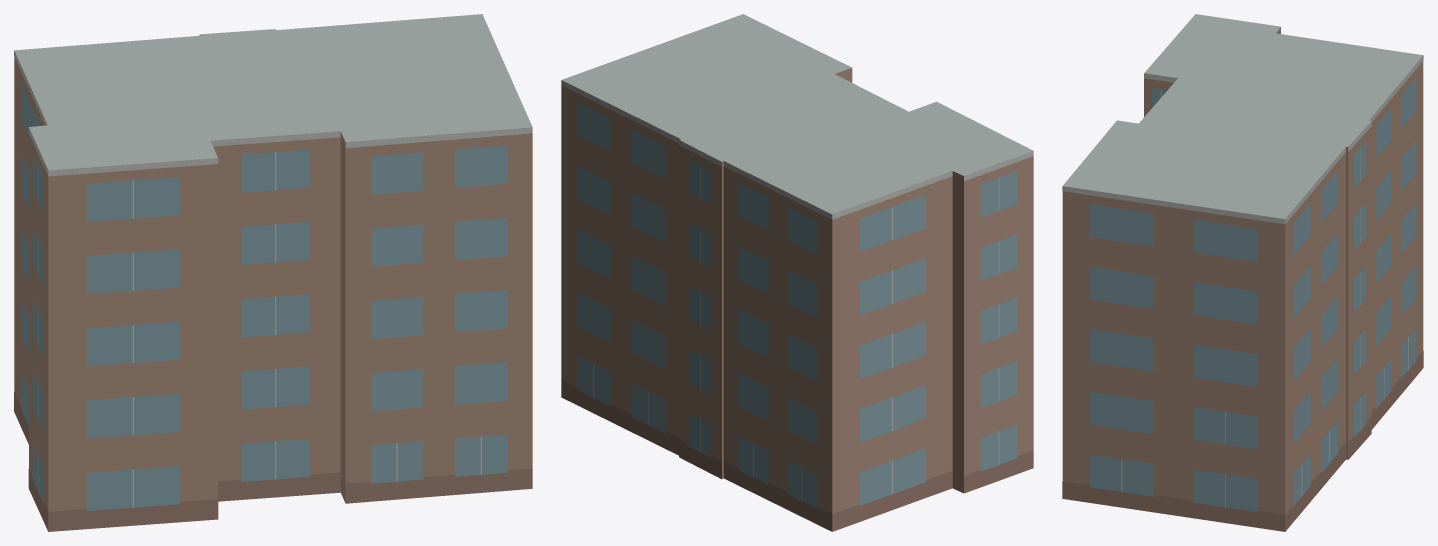
File: survey-upis-32602090.glb
3 views of the same model, side by side, from view 1: azimuth 30°, elevation 25°; view 2: azimuth 150°, elevation 25°; view 3: azimuth 270°, elevation 25° (orthographic). The views are drawn at different scales.
Visible parts, largest first — view 1: survey-upis-32602090.tmp; view 2: survey-upis-32602090.tmp; view 3: survey-upis-32602090.tmp.
Part boxes in pixels (x1,y1,x2,y2): survey-upis-32602090.tmp: (14, 14, 532, 531); survey-upis-32602090.tmp: (561, 14, 1033, 531); survey-upis-32602090.tmp: (1062, 14, 1423, 531).
Size of the model in its own units: 20.7 by 14.7 by 15.39.
